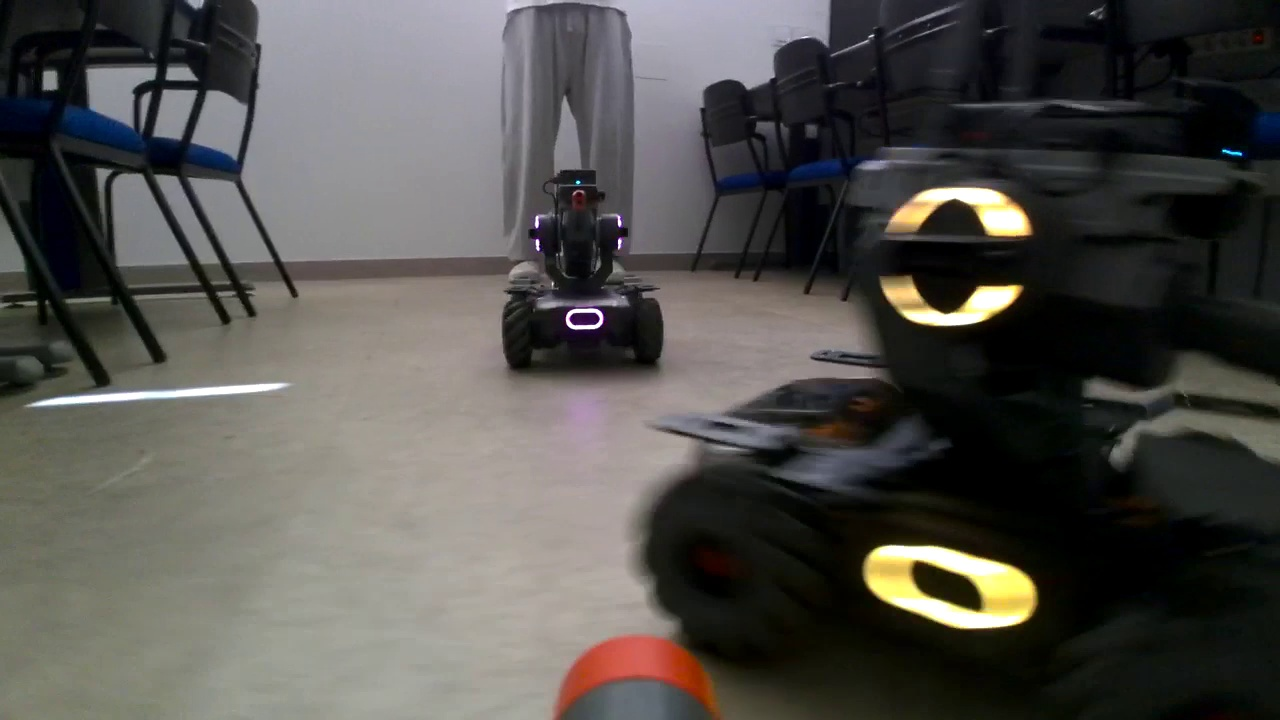robot: (672, 99, 1280, 720), (499, 171, 666, 370)
